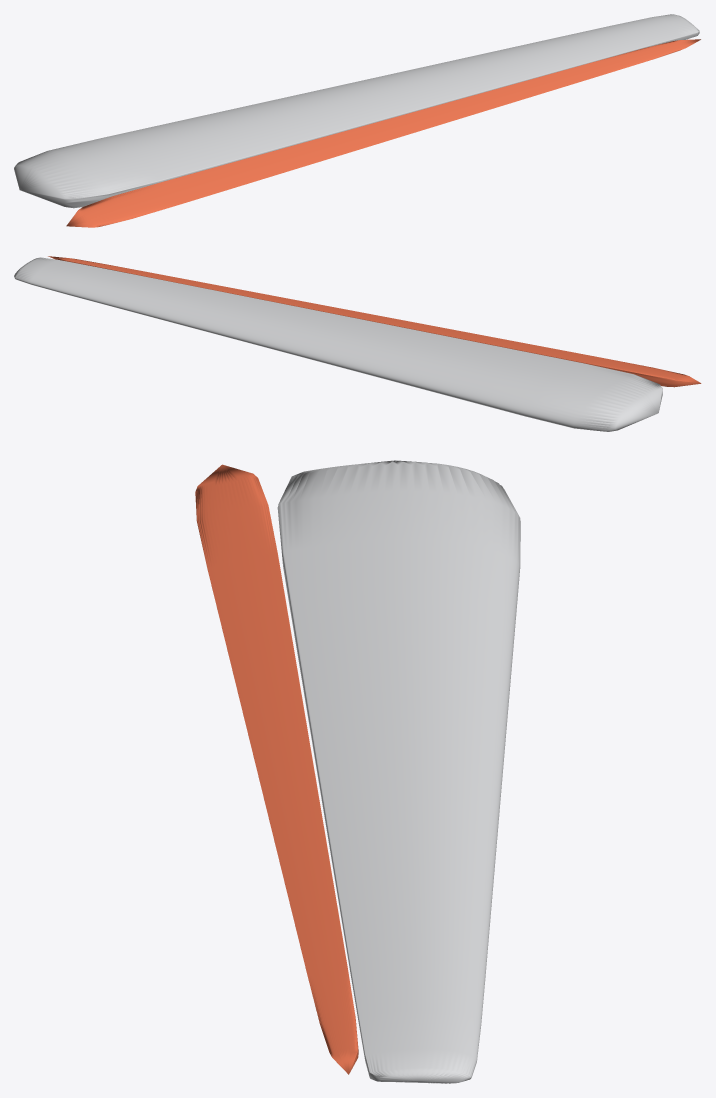
File: wingLong.glb
3 views of the same model, one above another, from view 1: azimuth 30°, elevation 25°; view 2: azimuth 150°, elevation 25°; view 3: azimuth 270°, elevation 25° (orthographic). The views are drawn at different scales.
Parts seen in each view (by area): view 1: GliderWingMain, GliderWingControl; view 2: GliderWingMain, GliderWingControl; view 3: GliderWingMain, GliderWingControl.
Part boxes in pixels (x1=…): GliderWingMain: x1=14, y1=14, x2=699, y2=208; GliderWingControl: x1=66, y1=39, x2=700, y2=227; GliderWingMain: x1=14, y1=257, x2=662, y2=431; GliderWingControl: x1=48, y1=256, x2=701, y2=387; GliderWingMain: x1=277, y1=460, x2=520, y2=1083; GliderWingControl: x1=195, y1=464, x2=358, y2=1074.
Size of the model in its own units: 5.03 by 0.1509 by 1.13.
